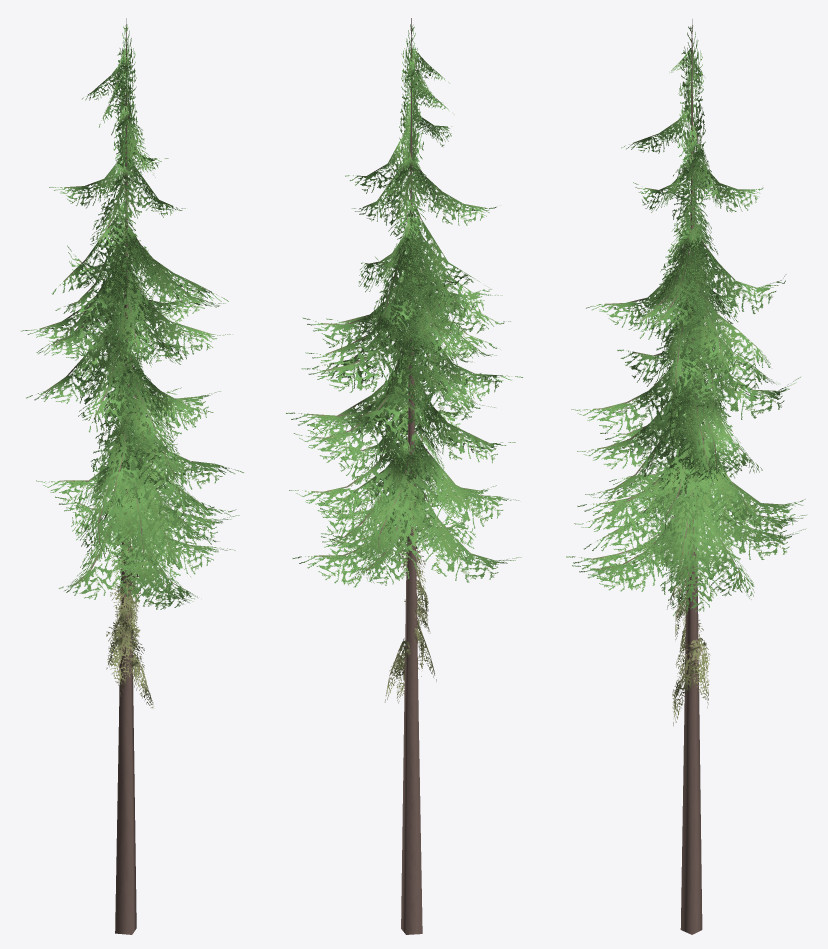
Rendered from tree_Pine_XL1_LOD1.fbx.
The picture shows the model from 3 angles, left to right: view 1: azimuth 30°, elevation 25°; view 2: azimuth 150°, elevation 25°; view 3: azimuth 270°, elevation 25°; orthographic projection.
Parts seen in each view (by area): view 1: Pine_XL1_LOD1; view 2: Pine_XL1_LOD1; view 3: Pine_XL1_LOD1.
Part boxes in pixels (x1=…): Pine_XL1_LOD1: x1=21, y1=18, x2=243, y2=934; Pine_XL1_LOD1: x1=286, y1=18, x2=522, y2=934; Pine_XL1_LOD1: x1=566, y1=19, x2=807, y2=934.
Bounding box in the file's own units: 965 × 3894 × 985.
